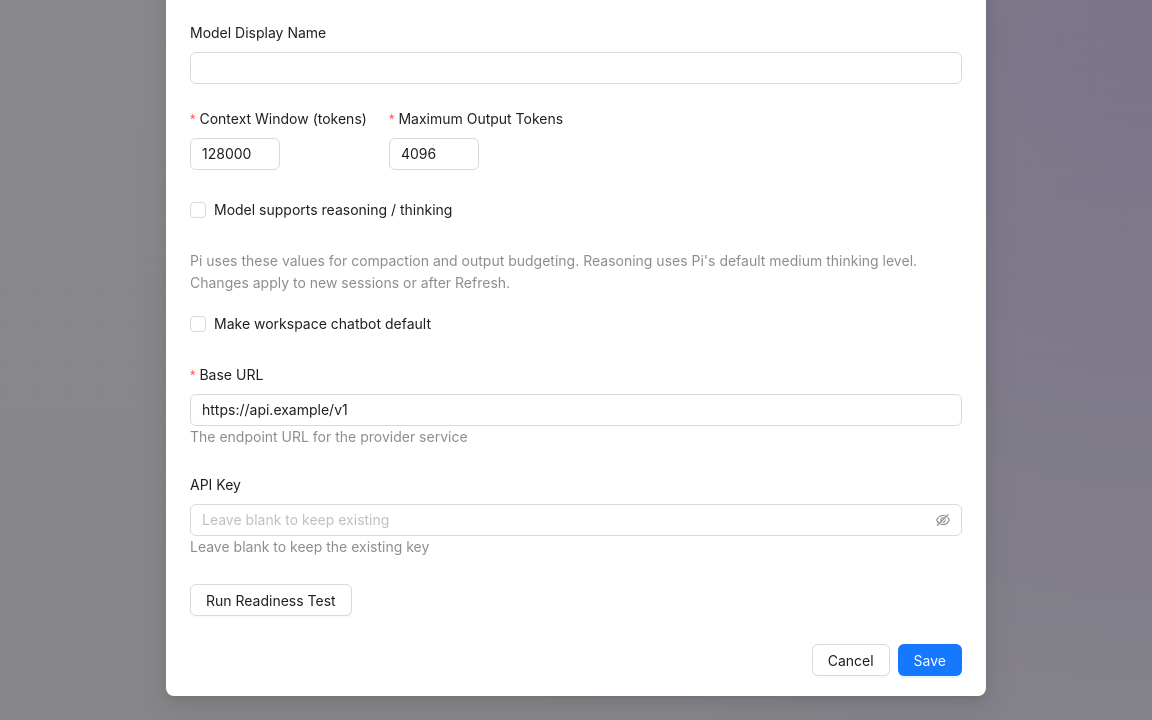
AddProviderDialog › runs readiness test and renders success state
This screenshot has width=1152, height=720.
(page scrolled)
Click the button "Run Readiness Test": (271, 600) [190,584,352,616]
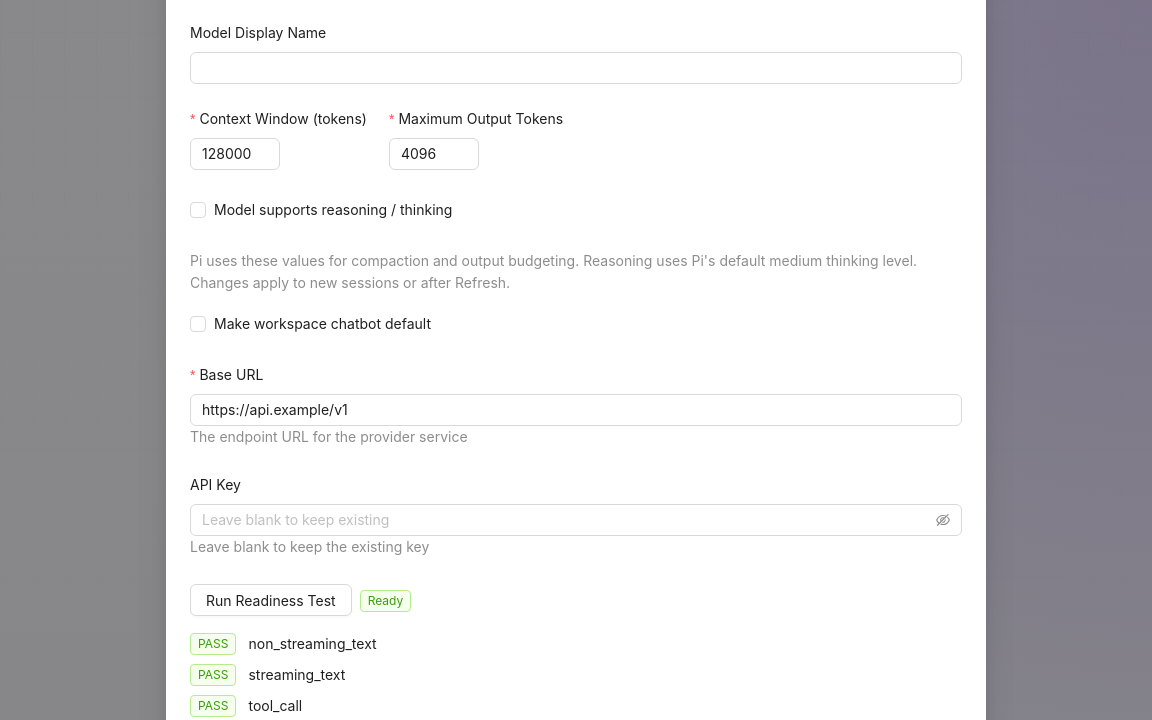
Now the text "Ready" is shown, box [360,590,411,612]
Now the text "PASS" is shown 4 times
